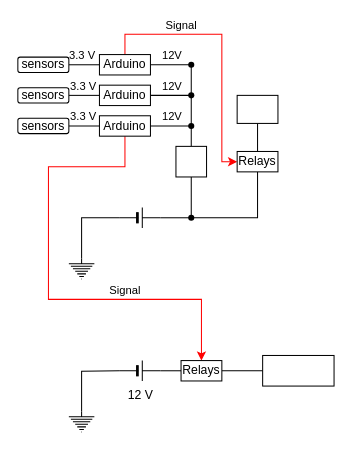
Some shapes in this 352 by 450 pixel diagram are drawn without their labels. Each missing label, with the centre of its shape:
"24 V" belongs at (140,217).
"Pump" belongs at (298,370).
"step down" belongs at (191,161).
"Valves" belongs at (257,108).
